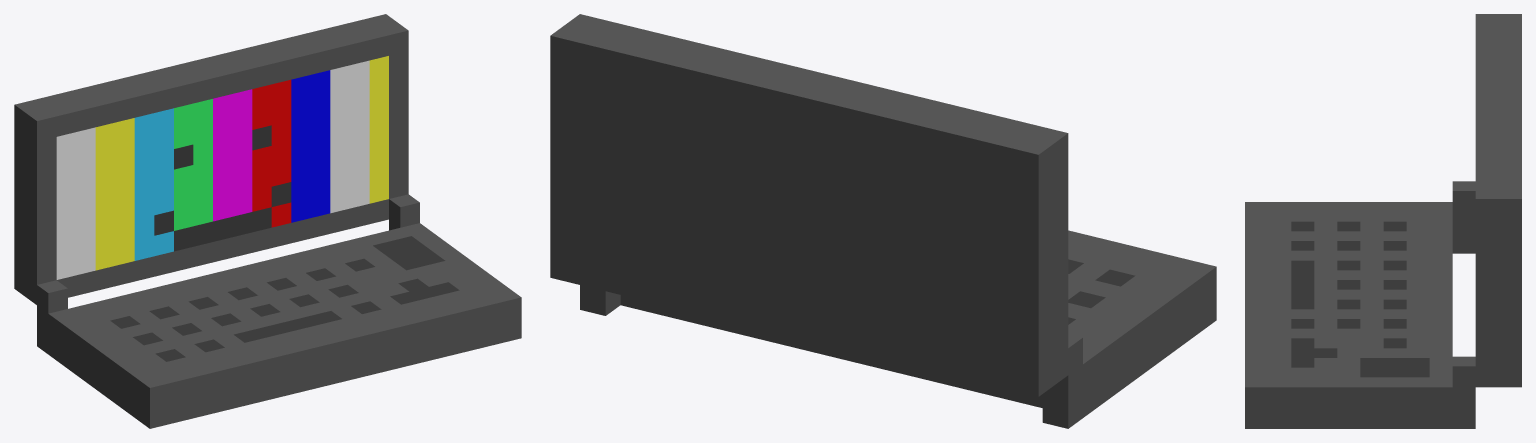
The model's file is Laptop prevolve (Lappy).obj.
3 views of the same model, side by side, from view 1: azimuth 30°, elevation 25°; view 2: azimuth 150°, elevation 25°; view 3: azimuth 270°, elevation 25° (orthographic). The views are drawn at different scales.
Bounding box in the file's own units: 1.9 × 1.1 × 1.2.
Materials: 1 (1 with a texture image).
